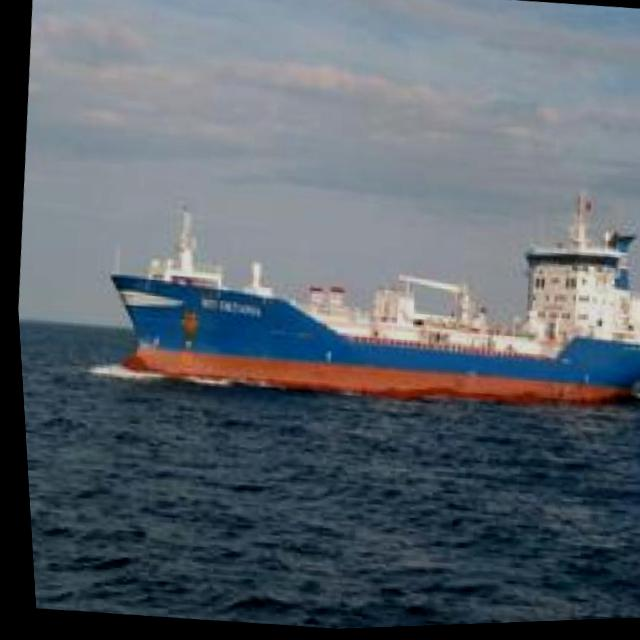ship2: (93, 191, 640, 413)
